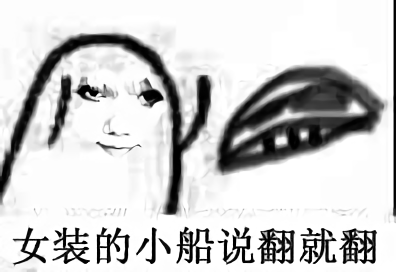dragon: (73, 77, 165, 158)
